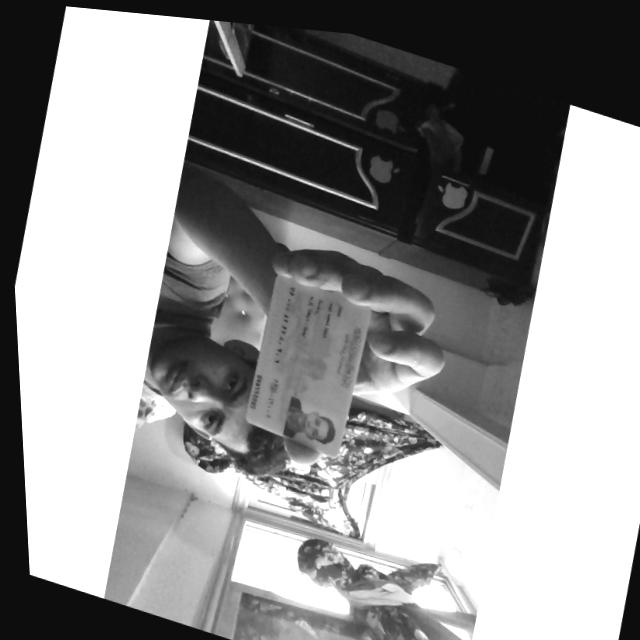front: (247, 275, 370, 457)
